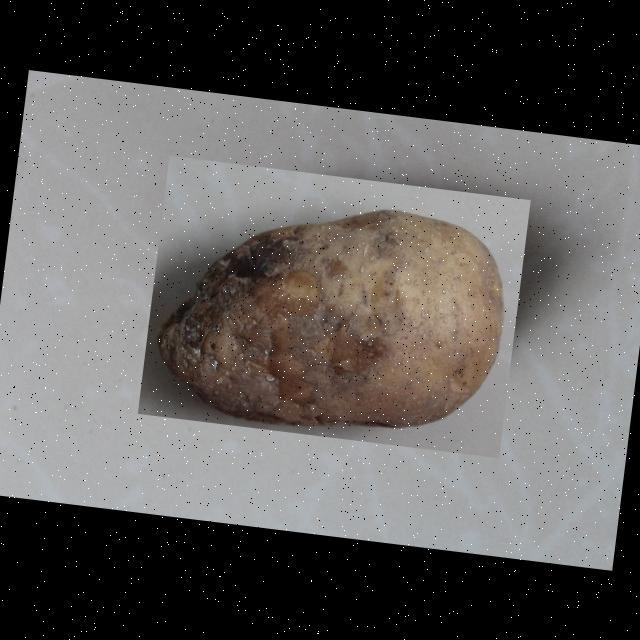Diseased-fungal potato: (137, 156, 530, 458)
